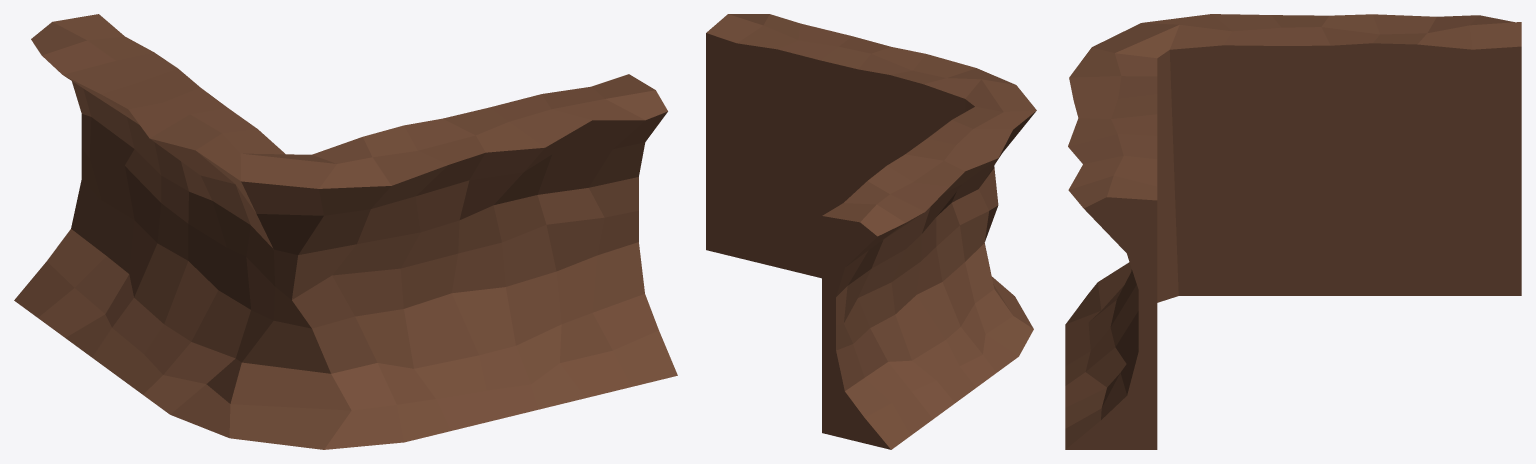
Rendered from CaveWallRoundInvert.fbx.
3 views of the same model, side by side, from view 1: azimuth 30°, elevation 25°; view 2: azimuth 150°, elevation 25°; view 3: azimuth 270°, elevation 25° (orthographic). The views are drawn at different scales.
Visible parts, largest first — view 1: CaveWallRoundInvert; view 2: CaveWallRoundInvert; view 3: CaveWallRoundInvert.
Boxes of the visible parts, x1,y1,x2,y2 form: CaveWallRoundInvert: (14,14,677,449); CaveWallRoundInvert: (706,14,1036,449); CaveWallRoundInvert: (1065,14,1521,449).
Size of the model in its own units: 581 by 355 by 581.
1 material, 1 textured.
